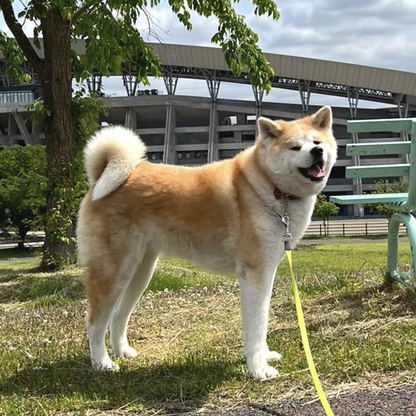akita: (69, 102, 342, 384)
